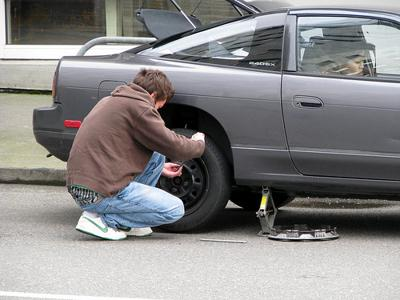person: (65, 66, 206, 244)
